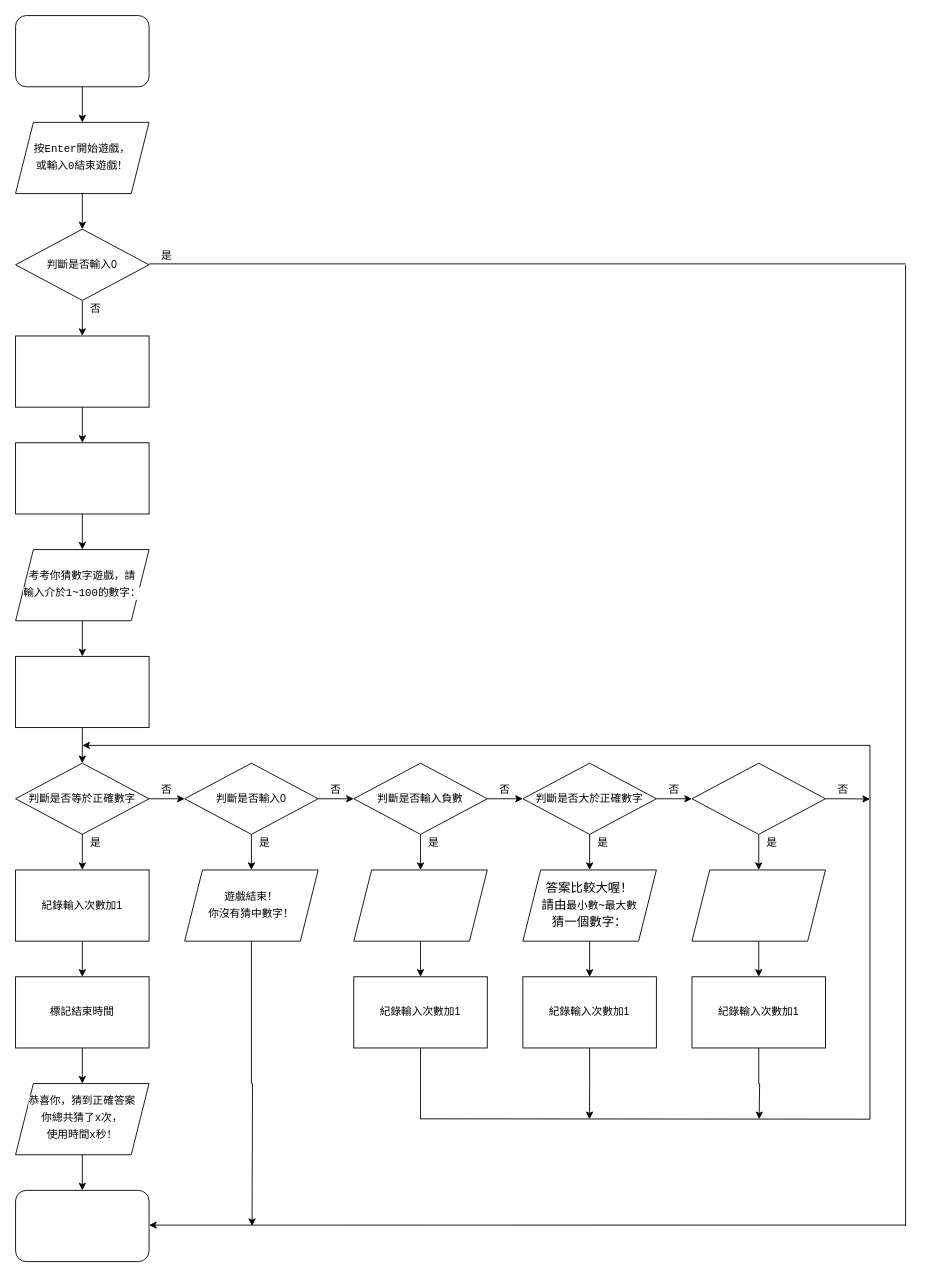
The diagram is 928 pixels wide and 1277 high, and some of its shapes have lost their labels. The shapes that lost their labels are listed below. From the top down, each one's centre as x and y in pixels, then its label:
the point at 82,51: 程式開始
the point at 82,371: 設定最小數為1 最大數為100
the point at 82,478: 從1至100範圍內 隨機取得一整數
the point at 82,691: 標記開始時間
the point at 758,798: 判斷是否小於正確數字
the point at 420,905: 請由最小數 ~ 最大數猜一個數字：
the point at 758,905: 答案比較小喔！ 請由 最小數 ~ 最大數 猜一個數字：
the point at 82,1225: 程式結束
